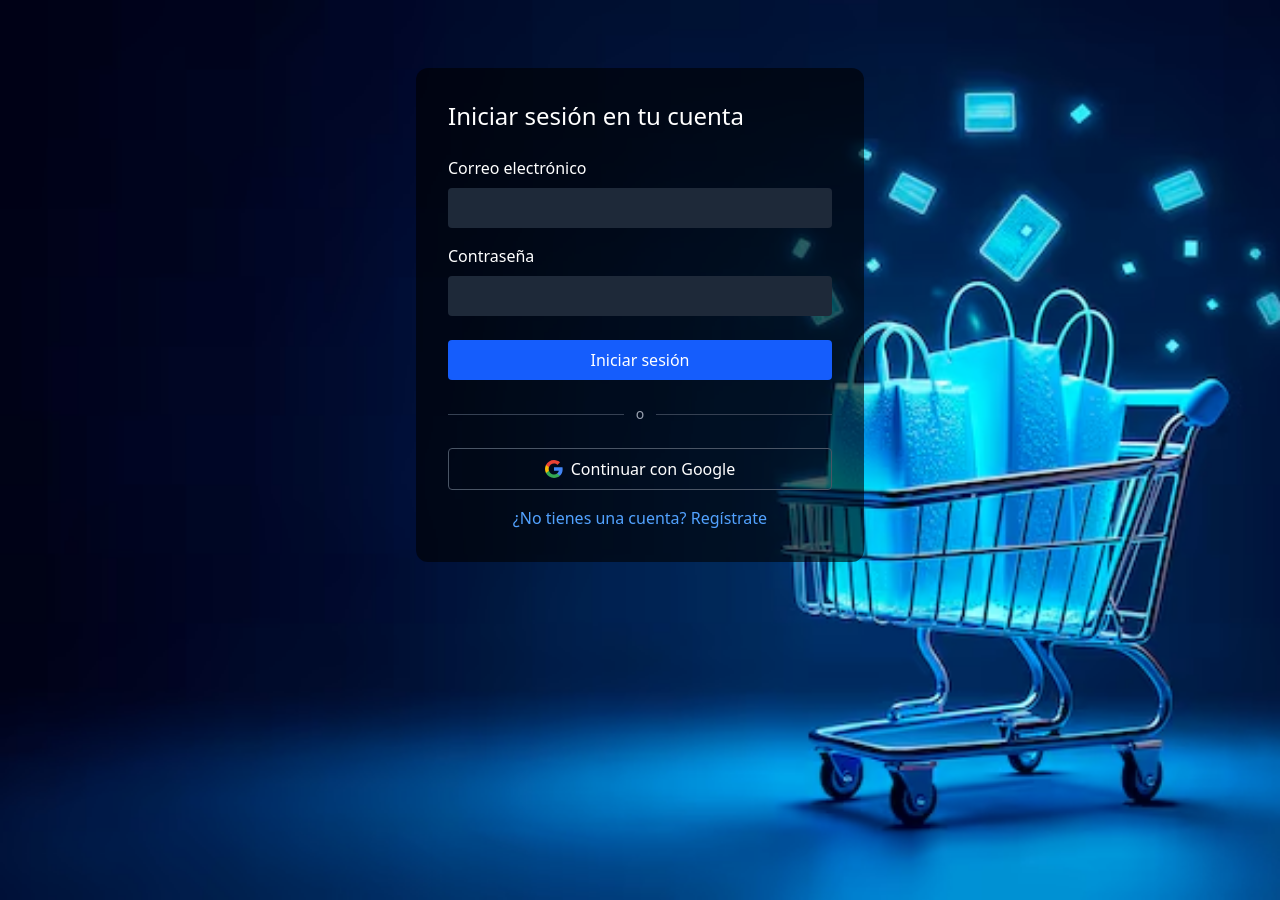
Test case: LoginPage › falls back to a general message for unknown errors
Type "ana@example.com" into the field labelled "Correo electrónico".
click(640, 208); type("ana@example.com")  # box [448,188,832,228]
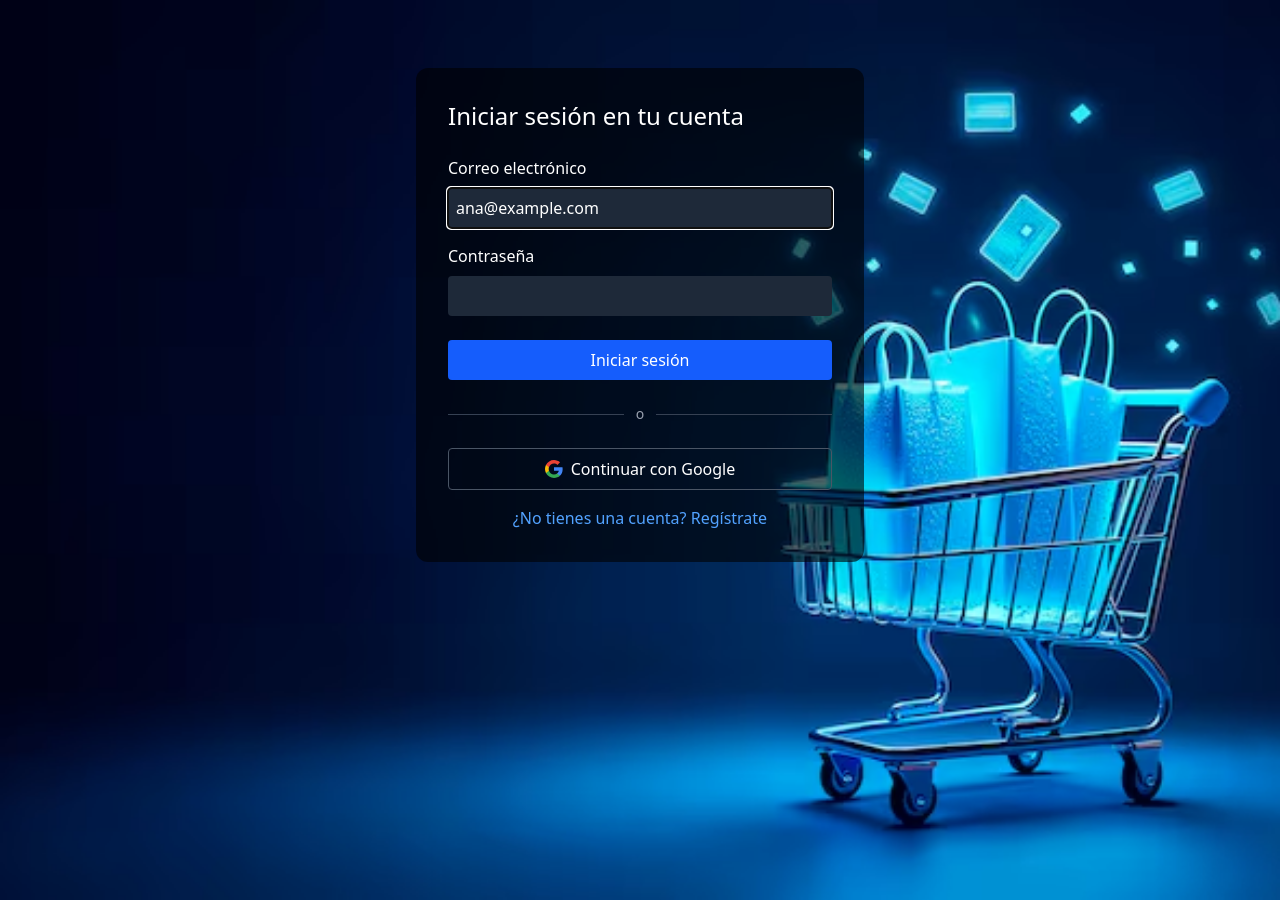
Type "x" into the password field labelled "Contraseña".
click(640, 296); type("x")  # box [448,276,832,316]
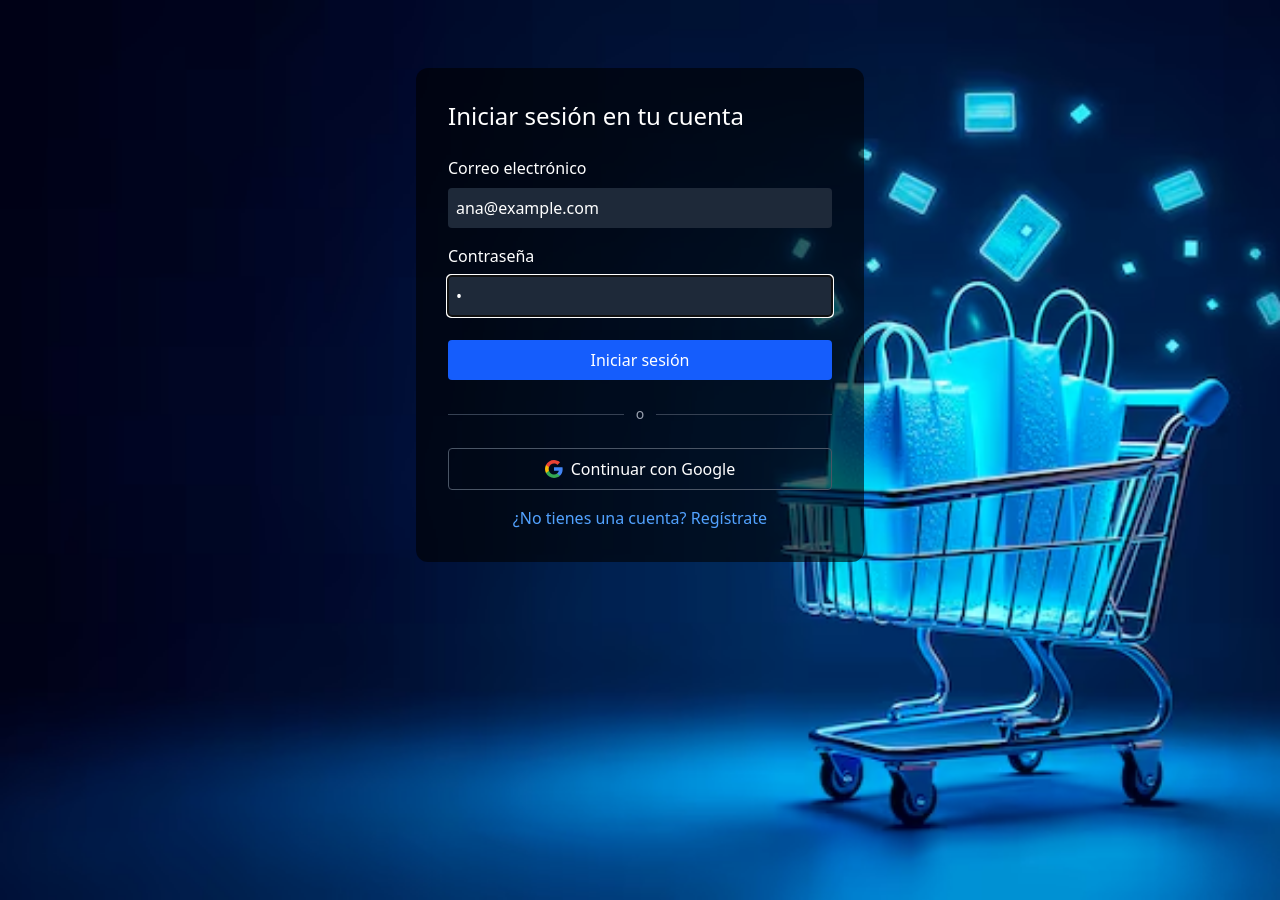
Click the button "Iniciar sesión".
click(640, 360)  # box [448,340,832,380]
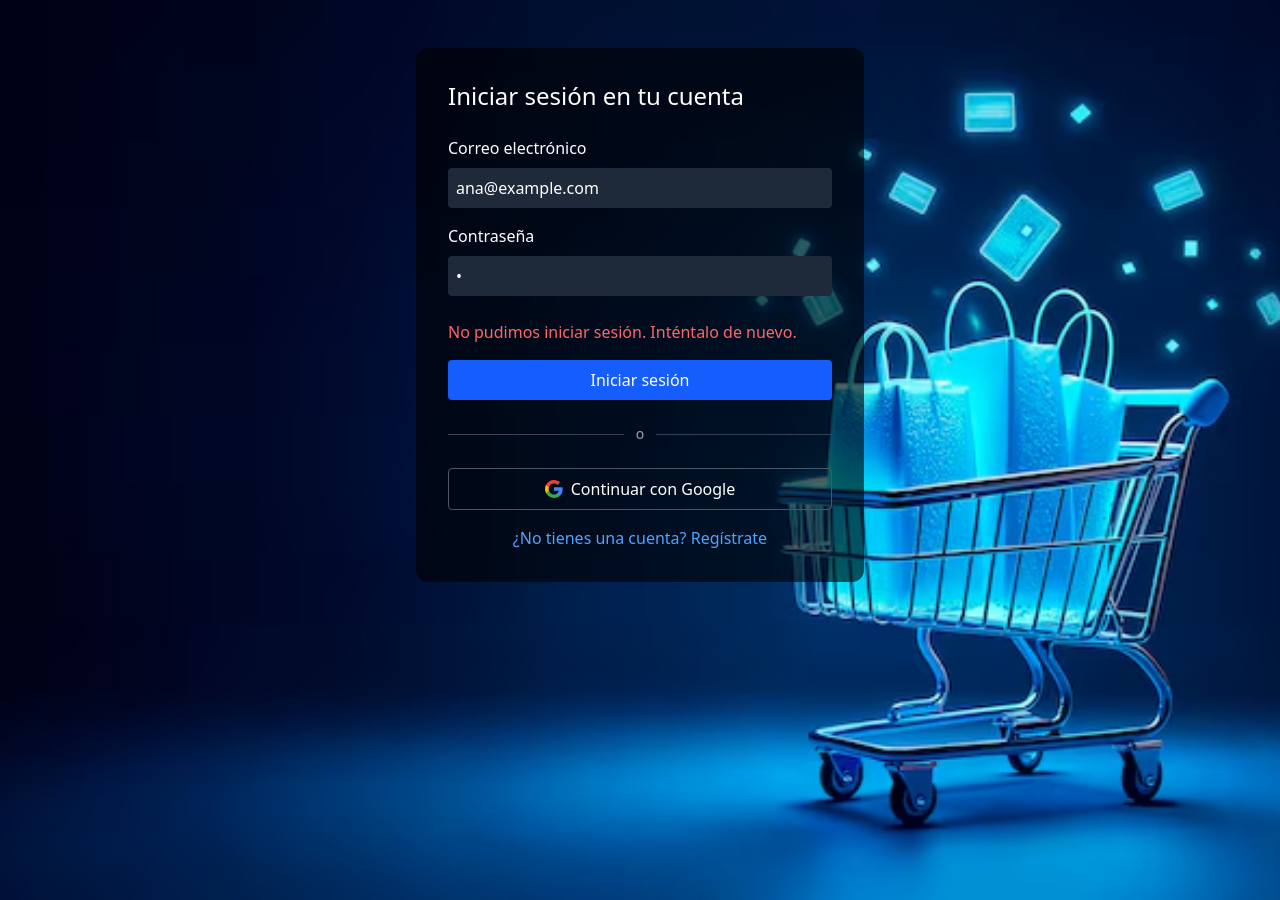
Check: the text "No pudimos iniciar sesión. Inténtalo de nuevo." is shown, box [448,320,832,344]
